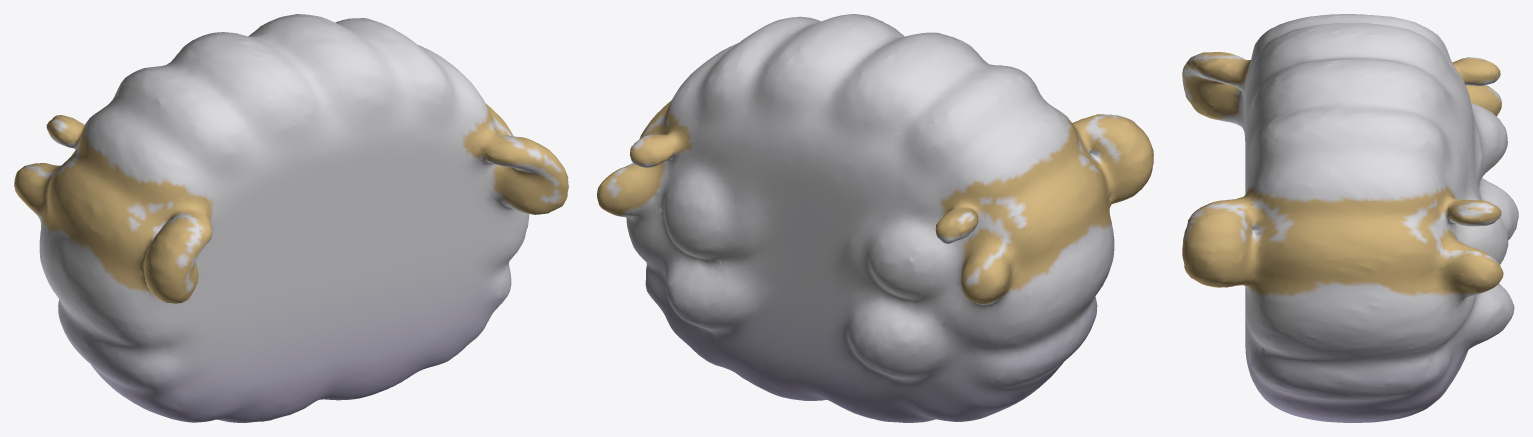
Rendered from sheep.glb.
3 renders of one model, left to right at view 1: azimuth 30°, elevation 25°; view 2: azimuth 150°, elevation 25°; view 3: azimuth 270°, elevation 25°, orthographic. The views are drawn at different scales.
Bounding box in the file's own units: 1.3 × 1.02 × 0.9294.
